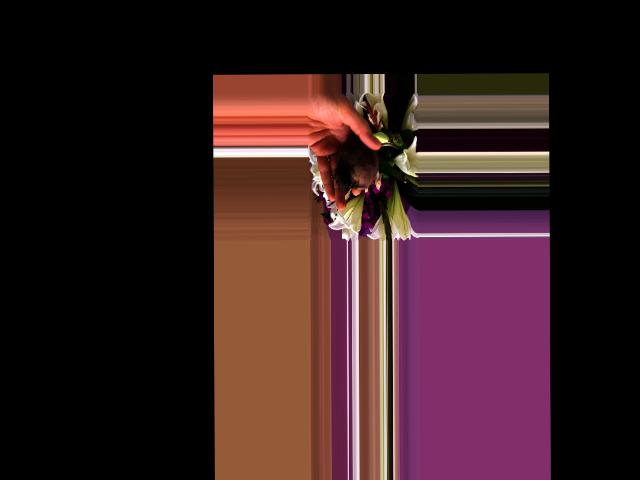beet: (335, 136, 399, 191)
